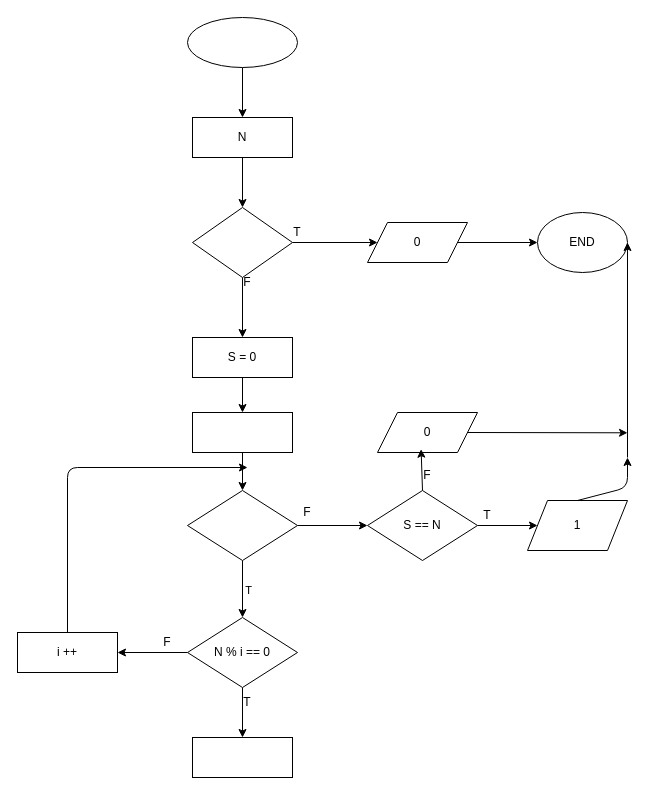
Some shapes in this 653 by 795 pixel diagram are drawn without their labels. The box of each missing label's shape, as (x1, y1, x2, y2) in pixels:
i <= N/2: (186, 490, 298, 560)
i = 1: (192, 412, 292, 452)
N < = 0: (192, 206, 292, 278)
S += i: (192, 736, 292, 778)
START: (186, 16, 298, 68)
